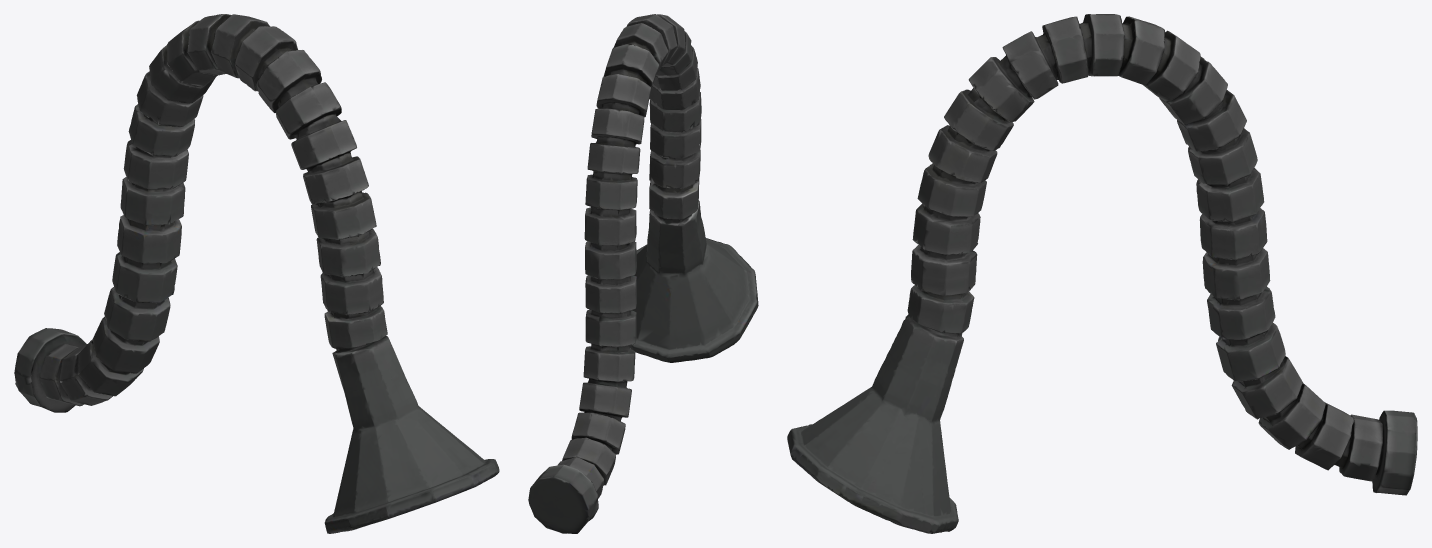
Rendered from hose.glb.
The picture shows the model from 3 angles, left to right: view 1: azimuth 30°, elevation 25°; view 2: azimuth 150°, elevation 25°; view 3: azimuth 270°, elevation 25°; orthographic projection. The views are drawn at different scales.
Parts seen in each view (by area): view 1: tripo_node_0d241d74-fa3f-403d-bccb-6e07bdd02de0; view 2: tripo_node_0d241d74-fa3f-403d-bccb-6e07bdd02de0; view 3: tripo_node_0d241d74-fa3f-403d-bccb-6e07bdd02de0.
Part boxes in pixels (<box>): tripo_node_0d241d74-fa3f-403d-bccb-6e07bdd02de0: <box>14,14,499,533</box>; tripo_node_0d241d74-fa3f-403d-bccb-6e07bdd02de0: <box>528,14,758,533</box>; tripo_node_0d241d74-fa3f-403d-bccb-6e07bdd02de0: <box>787,14,1417,533</box>.
Size of the model in its own units: 0.4171 by 0.8627 by 0.9792.
Materials: 1 (1 with a texture image).
